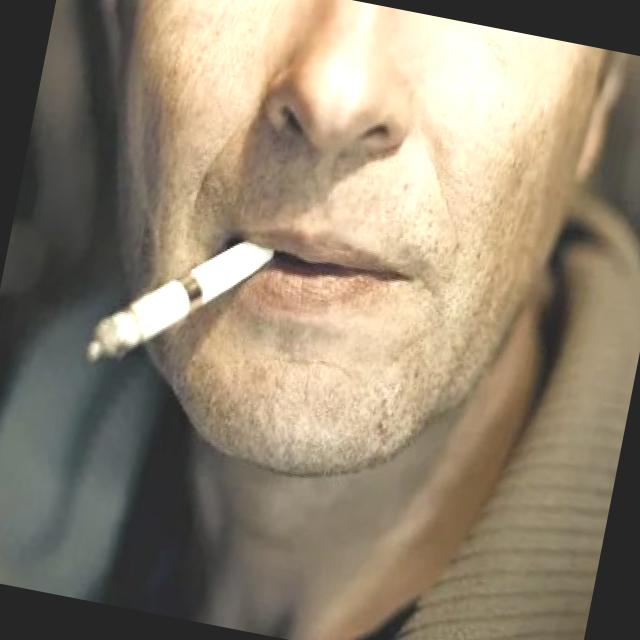cigarette: (80, 210, 282, 400)
